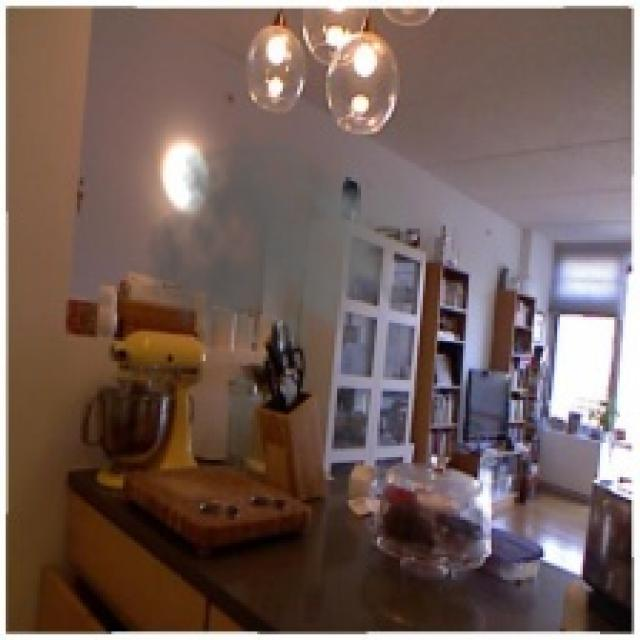smoke: (146, 123, 406, 377)
